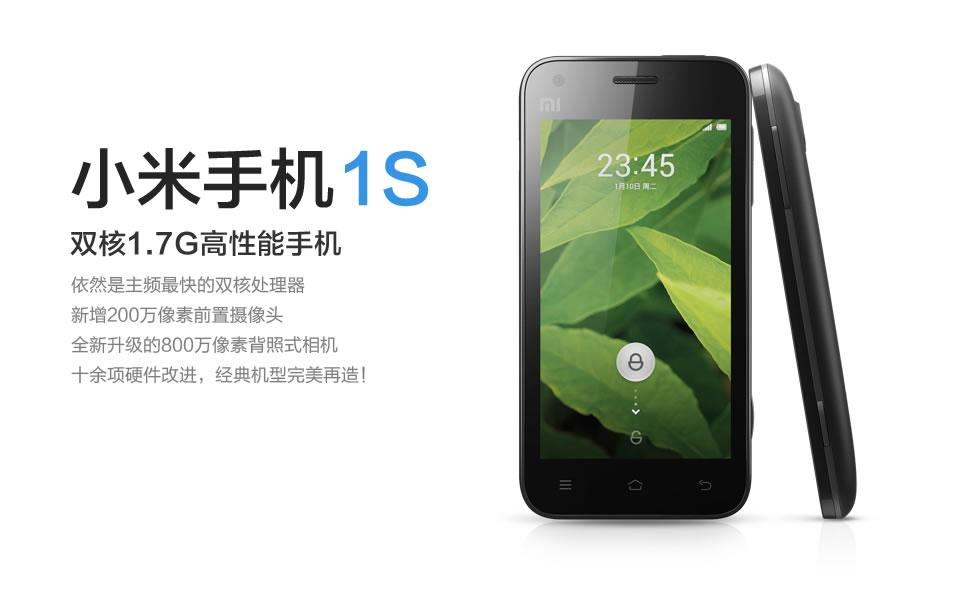phone: (531, 58, 745, 523), (745, 60, 873, 525)
